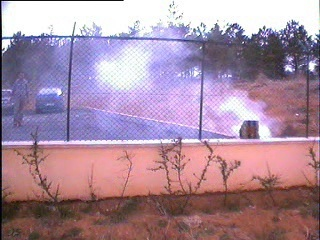smoke: (96, 28, 271, 138)
